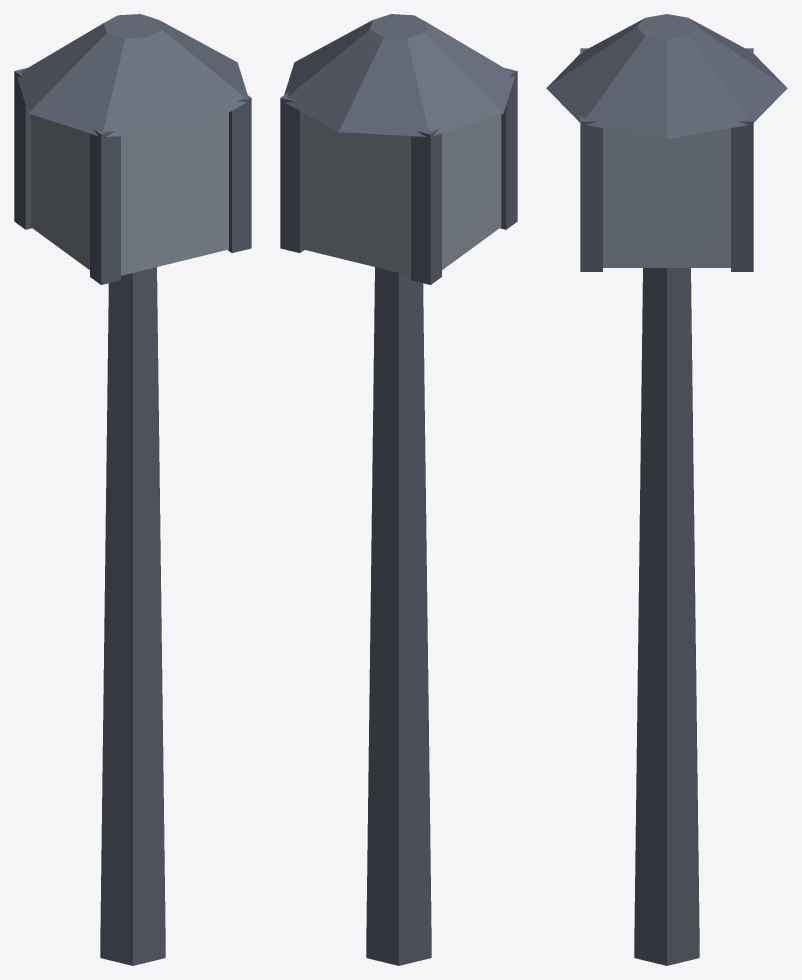
File: farol_verde.glb
The picture shows the model from 3 angles, left to right: view 1: azimuth 30°, elevation 25°; view 2: azimuth 150°, elevation 25°; view 3: azimuth 270°, elevation 25°; orthographic projection.
Visible parts, largest first — view 1: farol_verde; view 2: farol_verde; view 3: farol_verde.
Part boxes in pixels (box(x1,y1,x2,y2)): farol_verde: box(14, 14, 251, 965); farol_verde: box(280, 14, 517, 965); farol_verde: box(546, 14, 787, 965).
Size of the model in its own units: 0.64 by 2.7 by 0.64.
